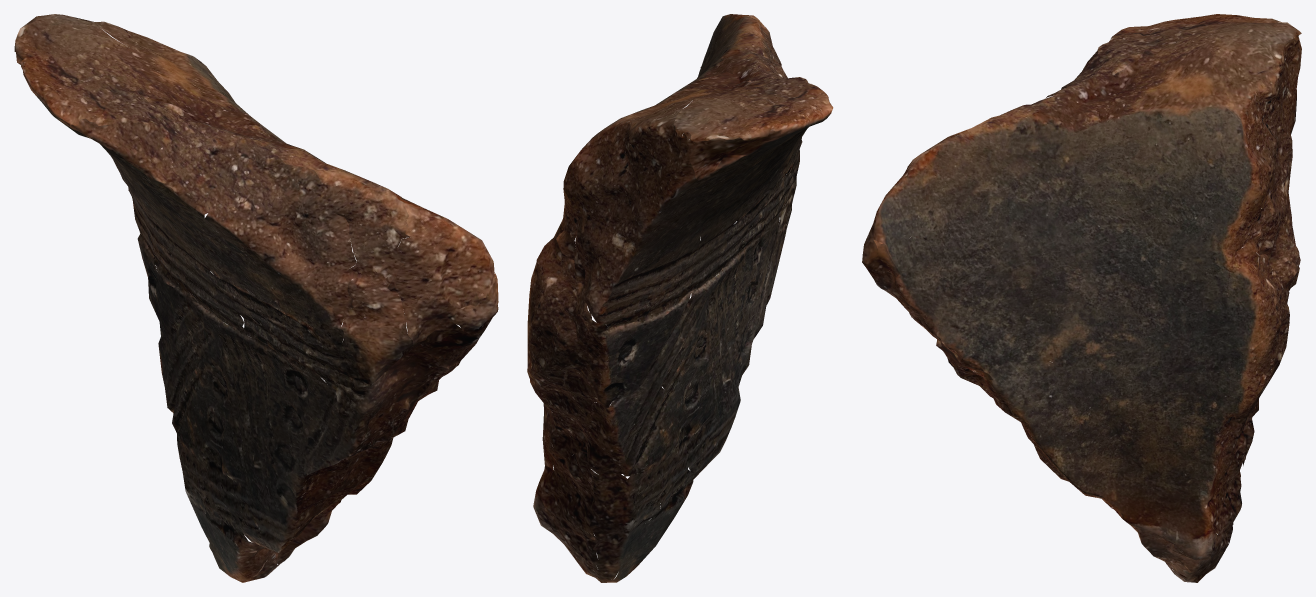
Rendered from piece8_10000_resHi.glb.
3 views of the same model, side by side, from view 1: azimuth 30°, elevation 25°; view 2: azimuth 150°, elevation 25°; view 3: azimuth 270°, elevation 25° (orthographic). The views are drawn at different scales.
Bounding box in the file's own units: 0.0453 × 0.0848 × 0.0691.
Materials: 1 (1 with a texture image).
